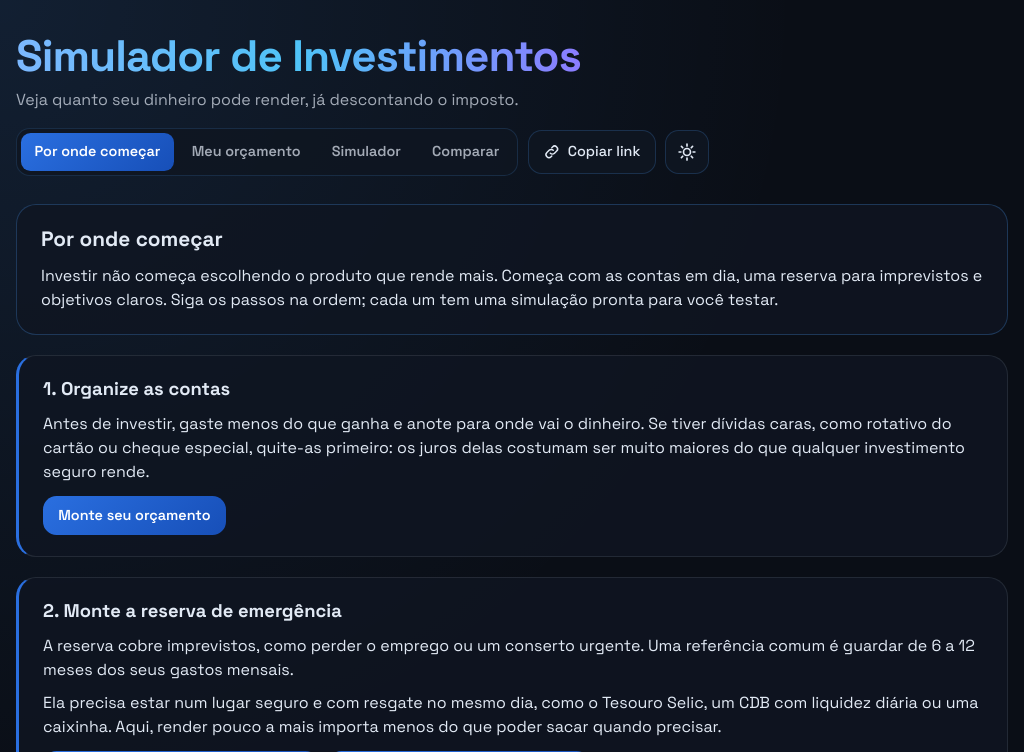
Test: a página tem link no menu, entre o guia e o simulador
Click the link "Meu orçamento" at (246,151), box 192,142 -> 301,160
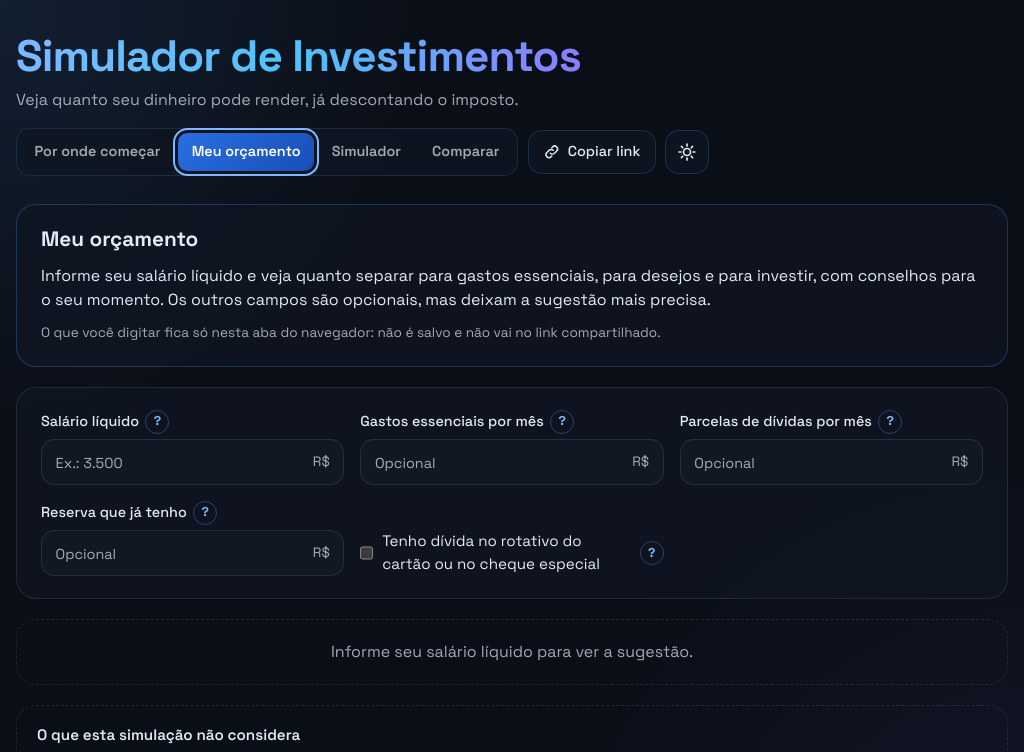
Check: the heading "Meu orçamento" is shown, box 41,226 -> 198,252
